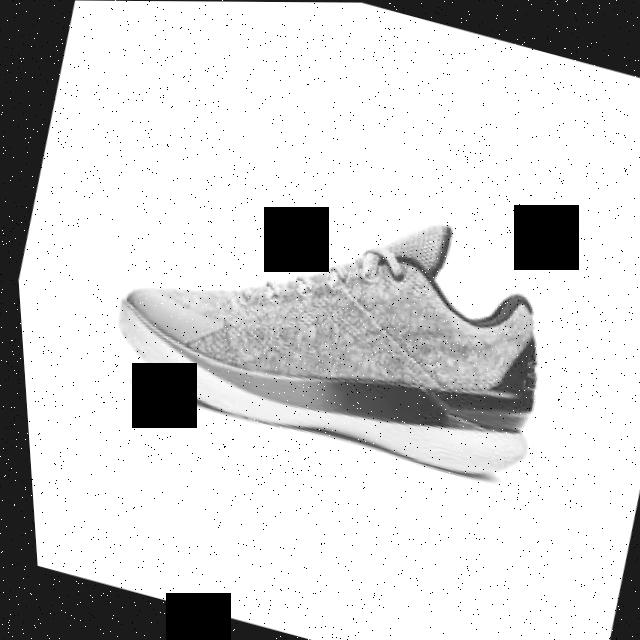shoe: (95, 147, 580, 493), (111, 219, 535, 476)
